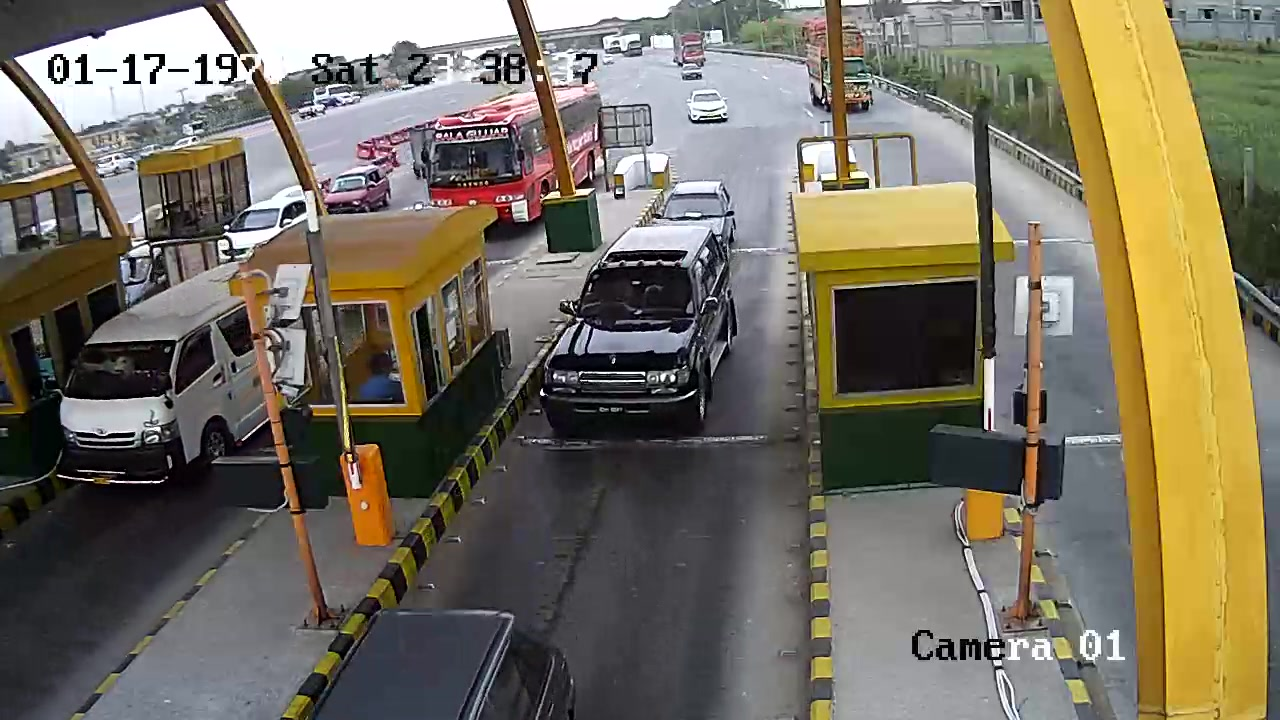F1: (534, 216, 743, 446)
